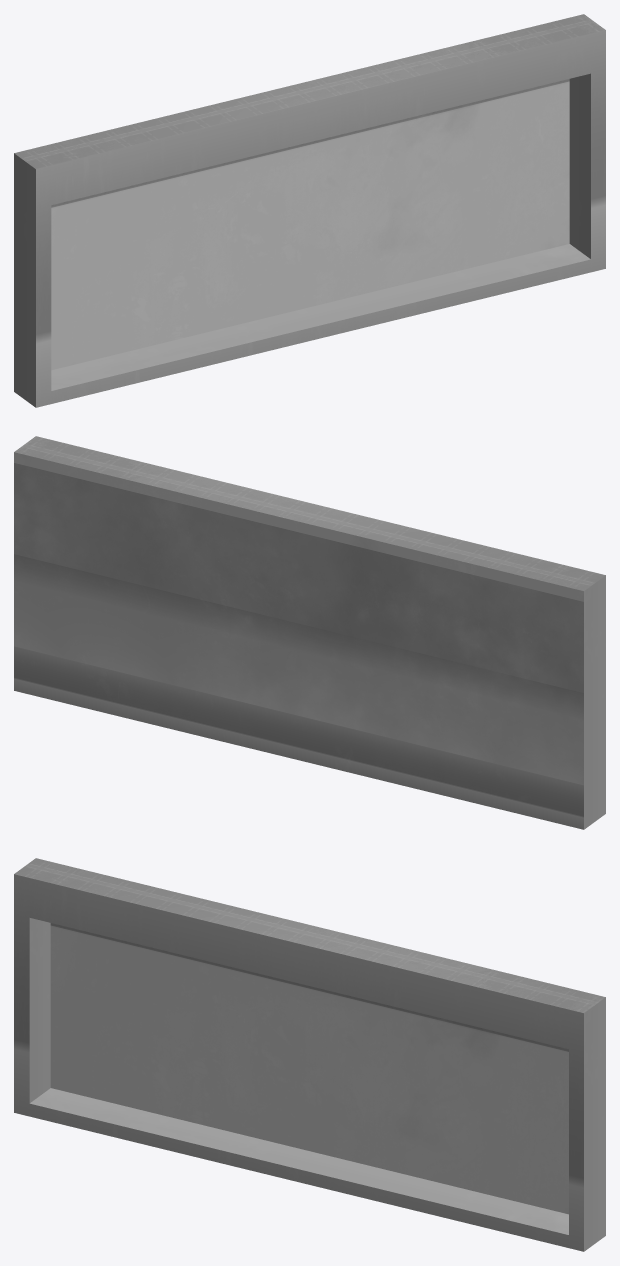
File: panels.fbx
3 renders of one model, top to bottom at view 1: azimuth 30°, elevation 25°; view 2: azimuth 150°, elevation 25°; view 3: azimuth 330°, elevation 25°, orthographic.
Parts seen in each view (by area): view 1: whiteTopWall9; view 2: whiteTopWall9; view 3: whiteTopWall9.
Boxes of the visible parts, bbox=[...] form: whiteTopWall9: bbox=[14, 14, 605, 407]; whiteTopWall9: bbox=[14, 436, 605, 829]; whiteTopWall9: bbox=[14, 858, 605, 1251].
Size of the model in its own units: 500 by 200 by 33.33.
